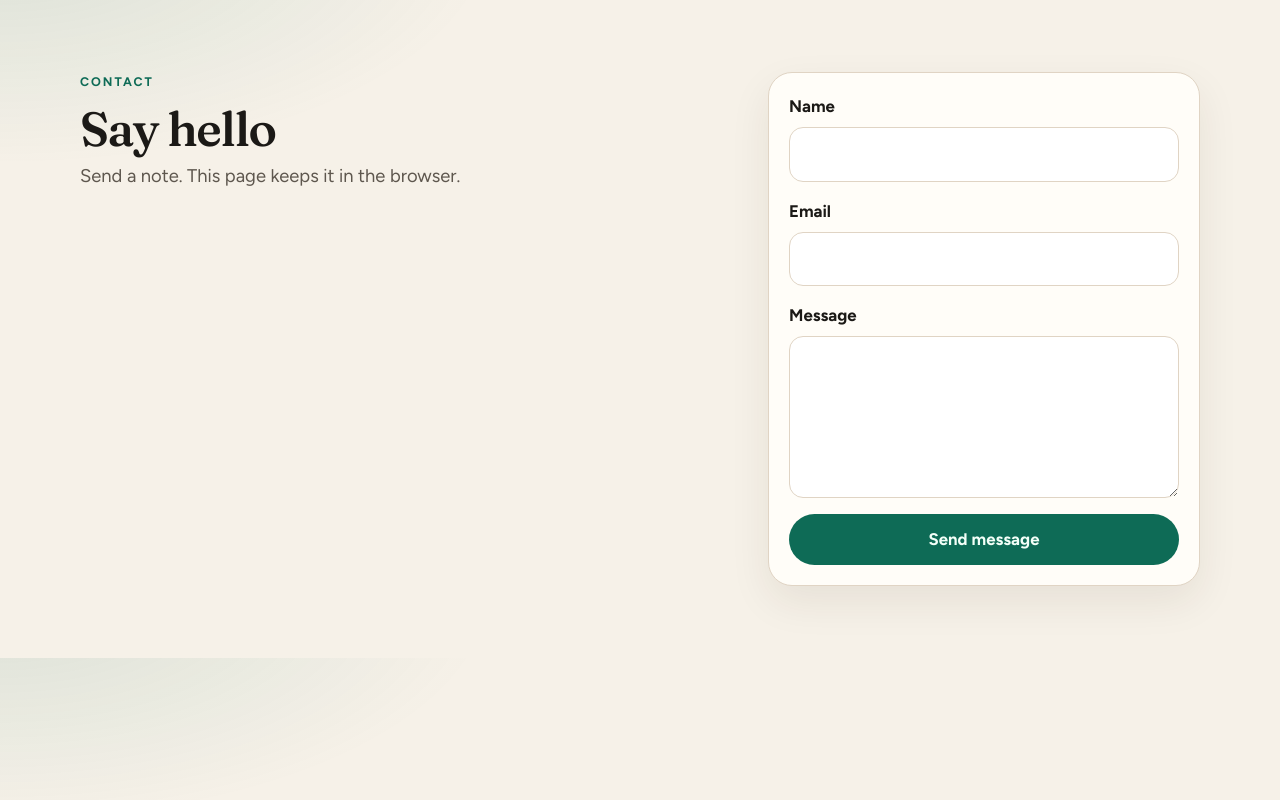
Test: Contact › confirms a valid note and clears that confirmation when the note changes
Type "Ada" into the field labelled "Name" at (984, 154), box [789,127,1179,182]
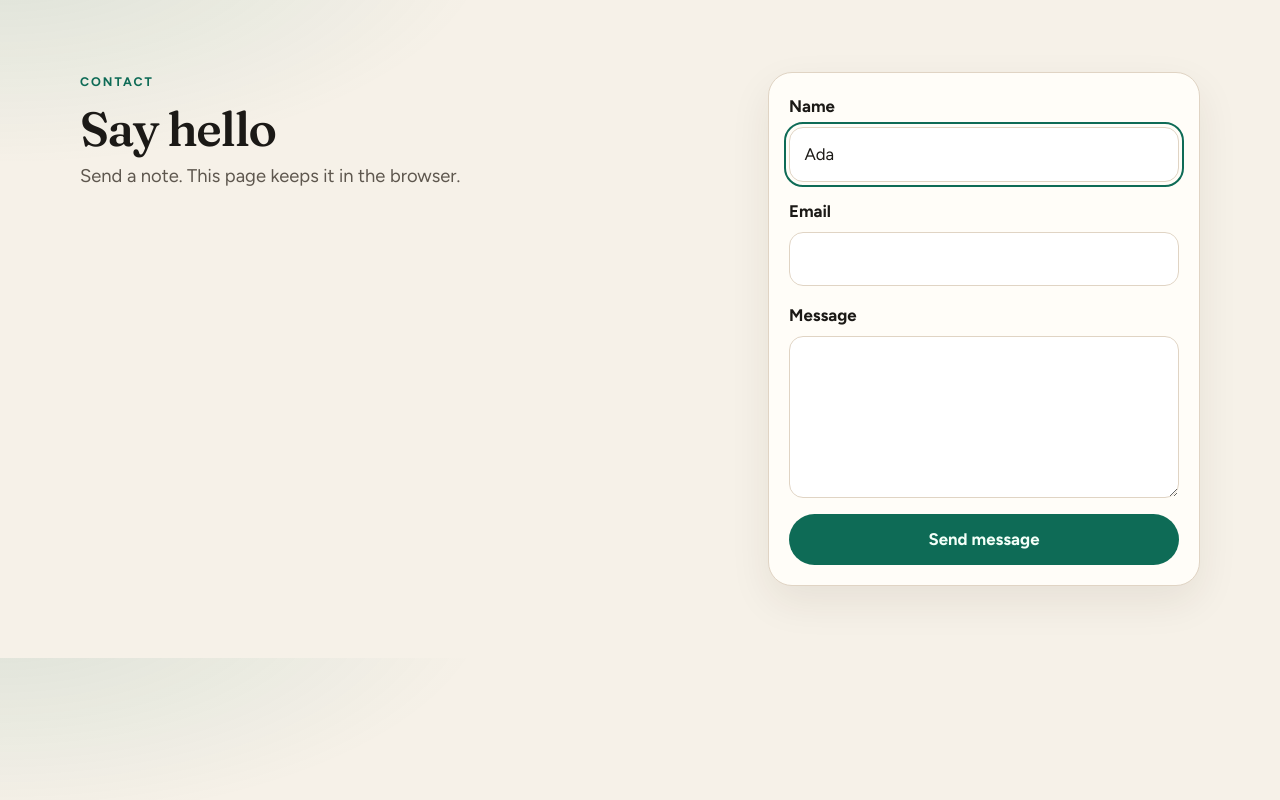
Type "ada@example.com" into the field labelled "Email" at (984, 259), box [789,232,1179,286]
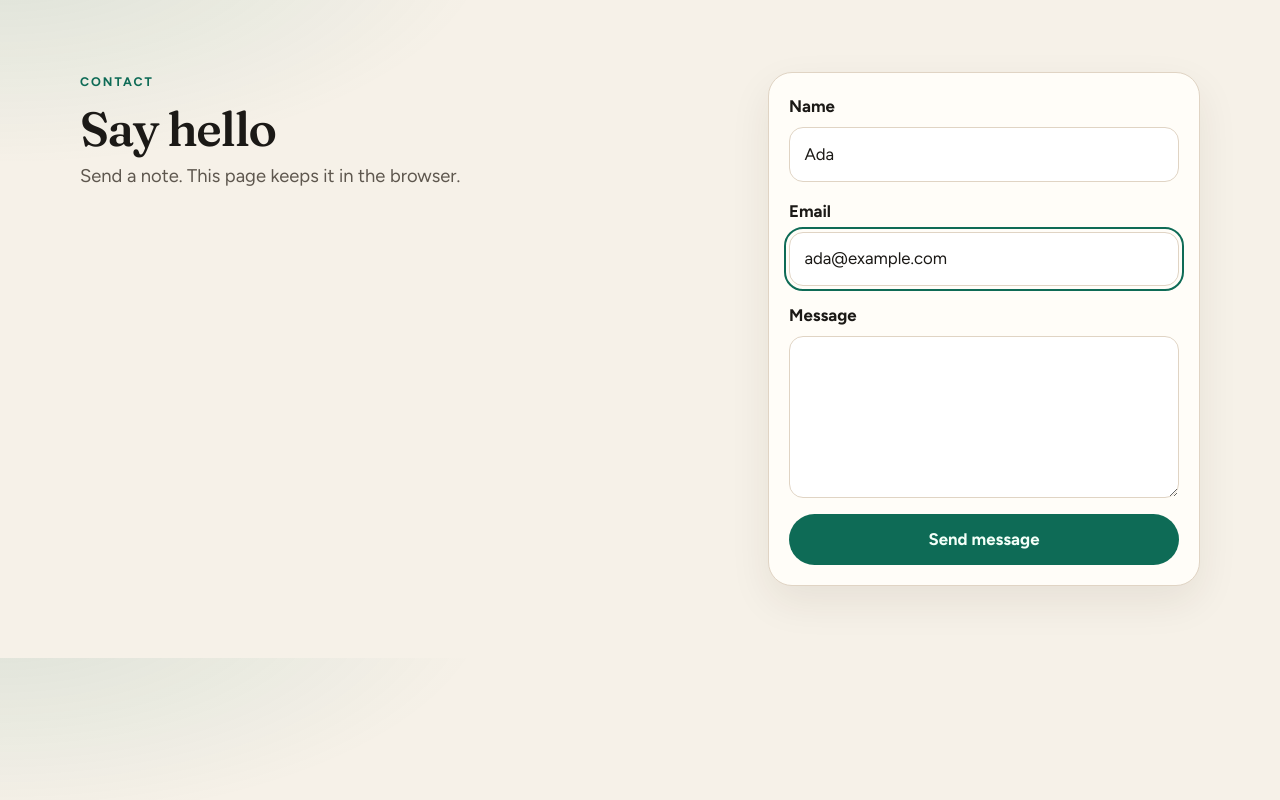
Type "Hello from the test suite." into the text box labelled "Message" at (984, 417), box [789,336,1179,498]
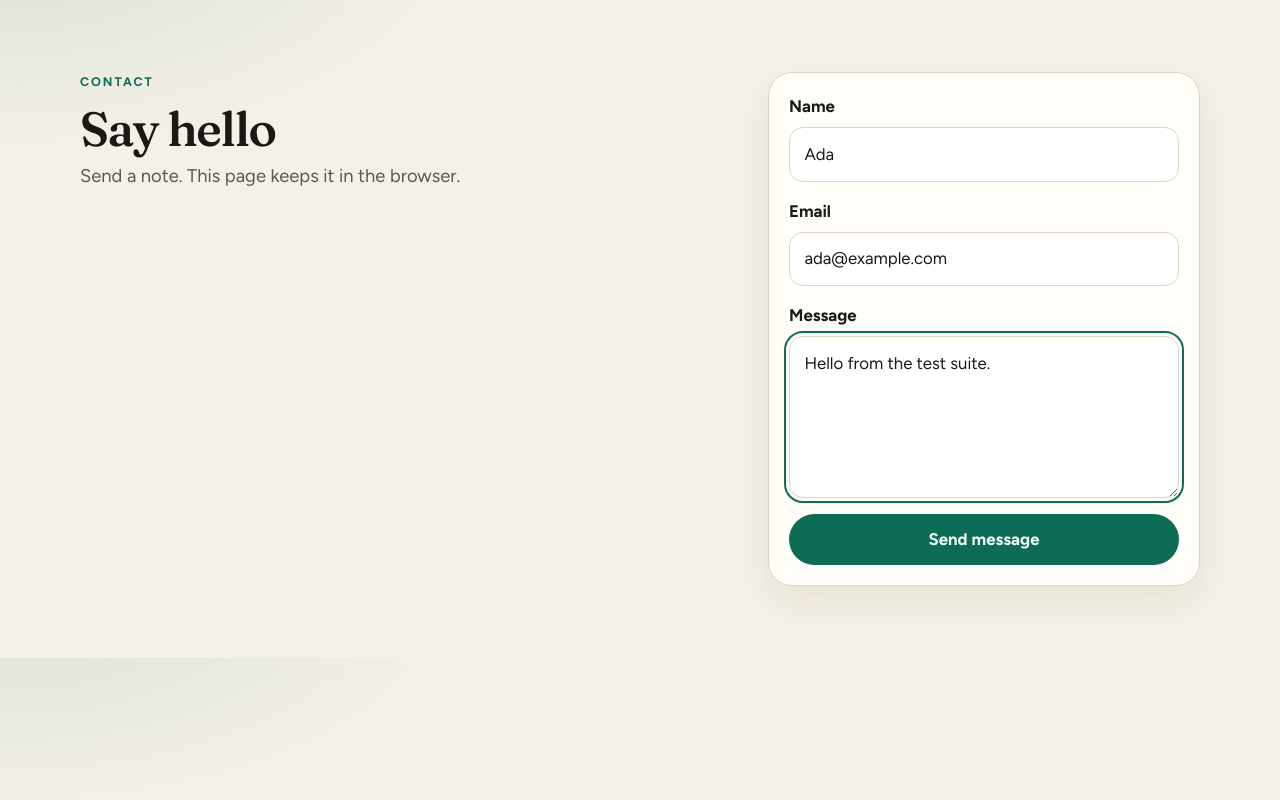
Click the button "Send message" at (984, 540), box [789,514,1179,565]
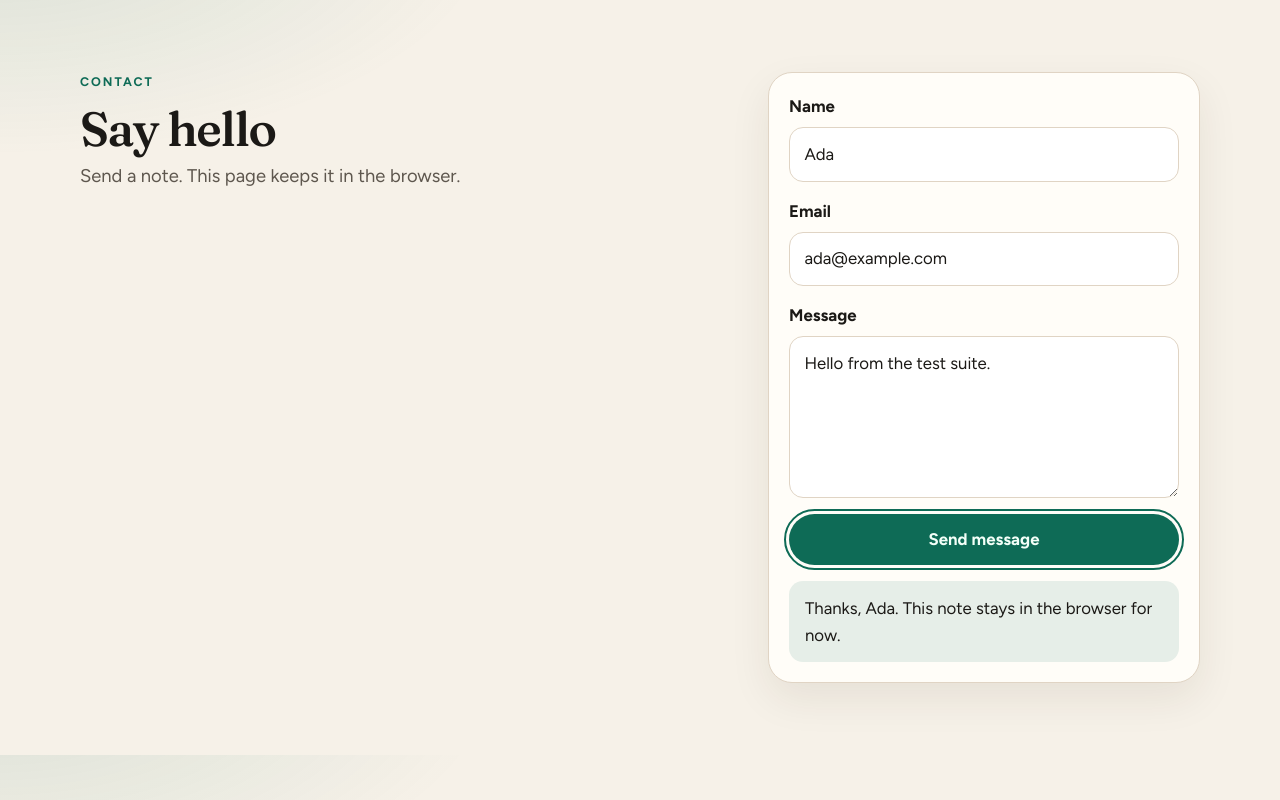
Result: the message reads "Thanks, Ada. This note stays in the browser for now." at [789,581,1179,662]
Type " Lovelace" into the field labelled "Name" at (984, 154), box [789,127,1179,182]
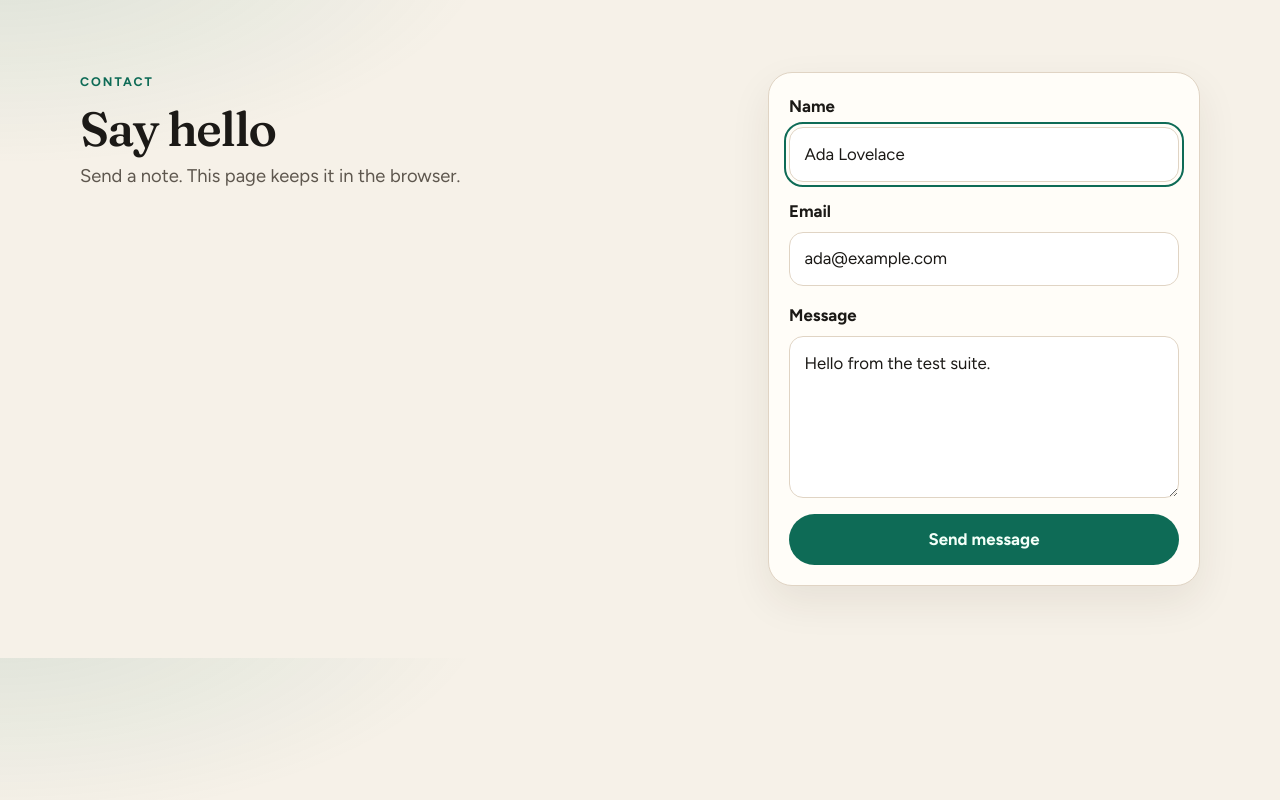
Result: the message "Thanks, Ada. This note stays in the browser for now." is gone
